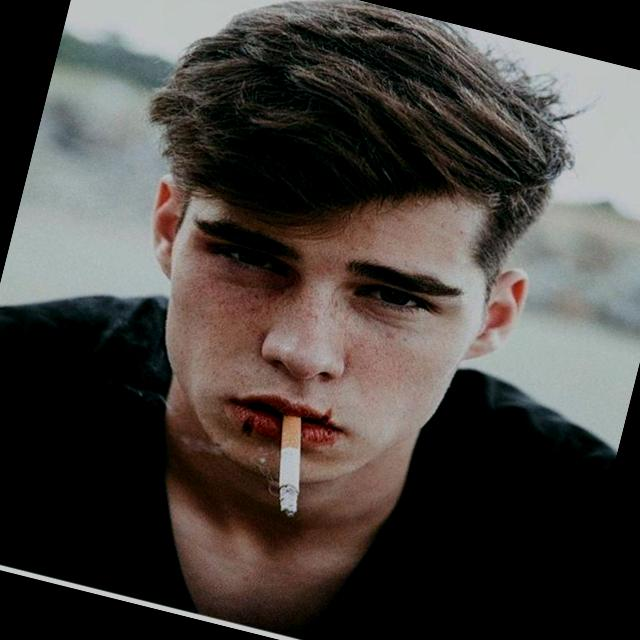smoke: (233, 382, 337, 530)
